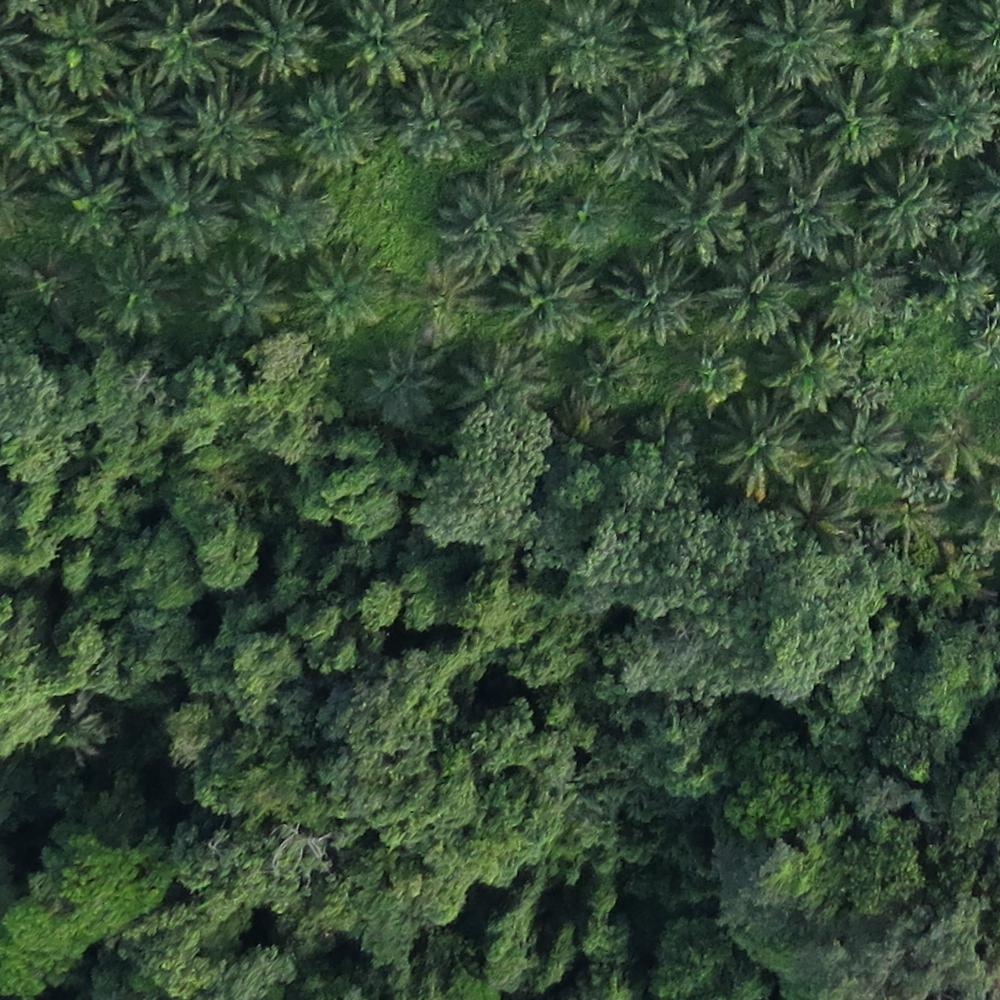Palm: (754, 155, 858, 264), (433, 177, 541, 271), (811, 400, 914, 495), (477, 81, 581, 175), (702, 79, 805, 173), (741, 4, 853, 90), (586, 83, 685, 179), (715, 391, 803, 497), (131, 166, 234, 256), (862, 156, 953, 256), (30, 2, 127, 93), (328, 1, 434, 84), (282, 84, 386, 168), (196, 249, 291, 340), (802, 243, 901, 330), (908, 67, 997, 163), (602, 249, 692, 343), (501, 258, 597, 346), (130, 2, 227, 88), (539, 5, 637, 90), (236, 166, 327, 257), (224, 1, 323, 84), (298, 249, 388, 340), (710, 256, 799, 347), (182, 89, 275, 176), (91, 251, 188, 334), (806, 73, 898, 160), (660, 179, 751, 265), (645, 1, 736, 84), (5, 91, 91, 177), (40, 168, 130, 250), (94, 81, 181, 162), (390, 78, 477, 158), (360, 346, 442, 426), (862, 2, 945, 74), (447, 7, 516, 67)
